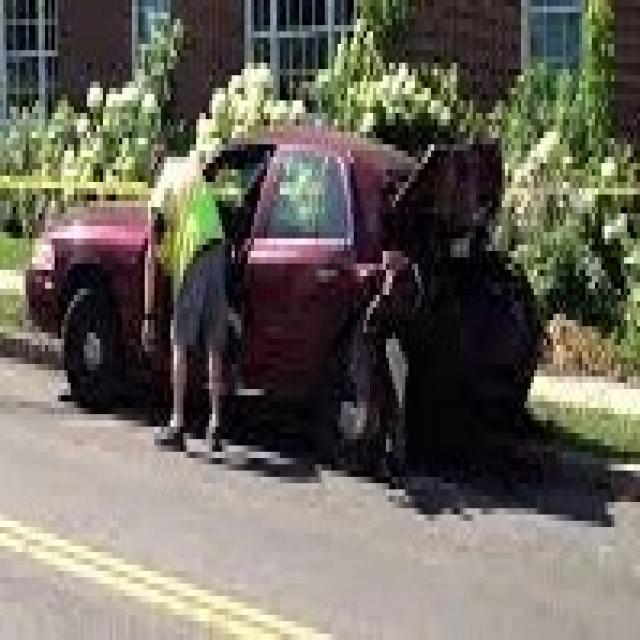severe: (363, 153, 516, 415)
